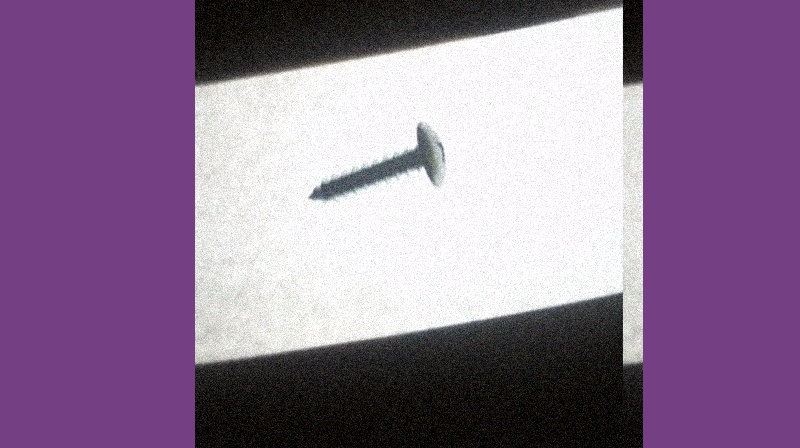S003: (305, 117, 452, 202)
